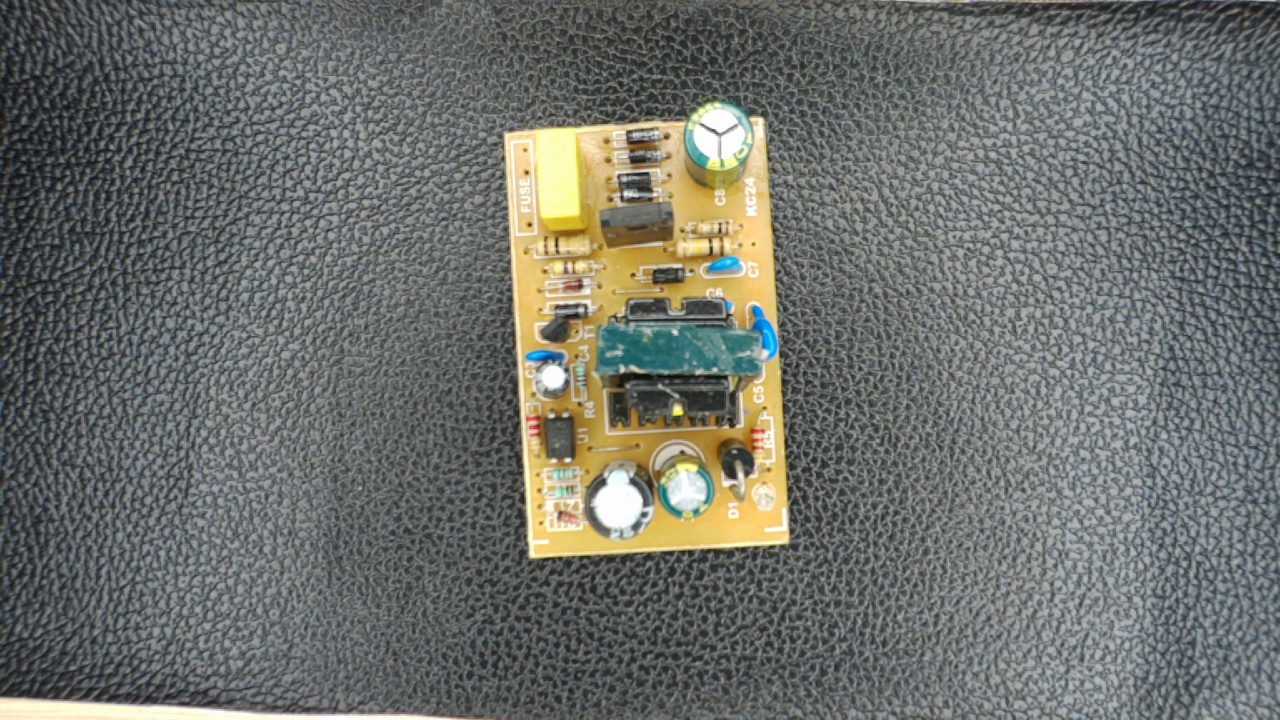hv_capacitor: (681, 101, 756, 186)
mov: (744, 302, 779, 366)
optocoupler: (537, 411, 584, 465)
